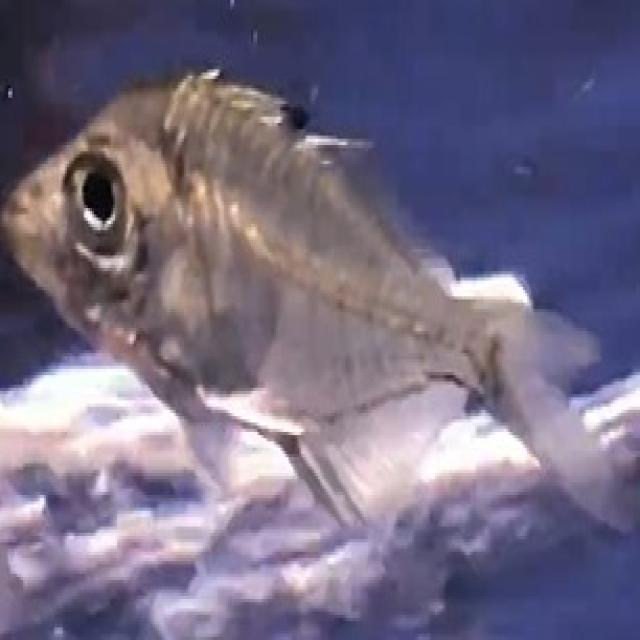Glass-Perchlet: (0, 56, 640, 599)
